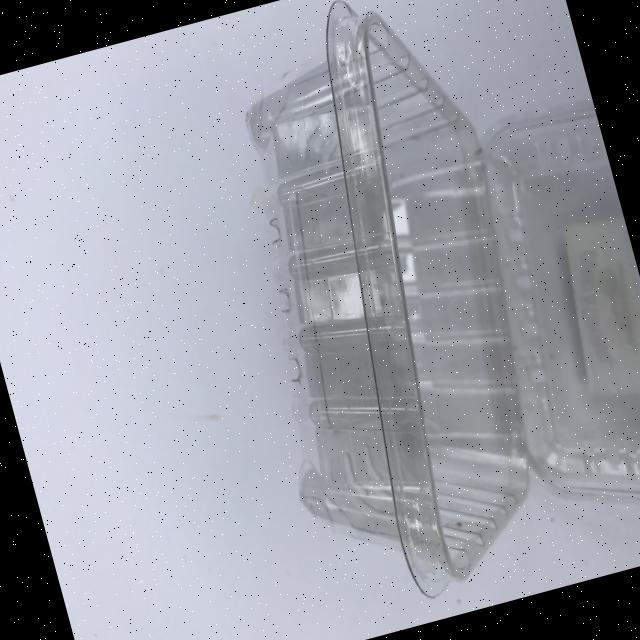plastic: (155, 0, 640, 620)
